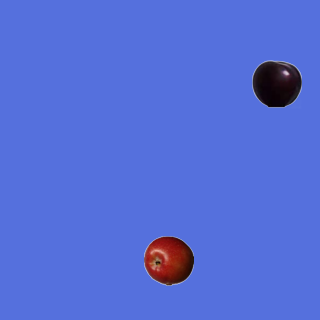Apple Braeburn: (143, 235, 193, 285)
Cherry Wax Black: (251, 58, 301, 108)
